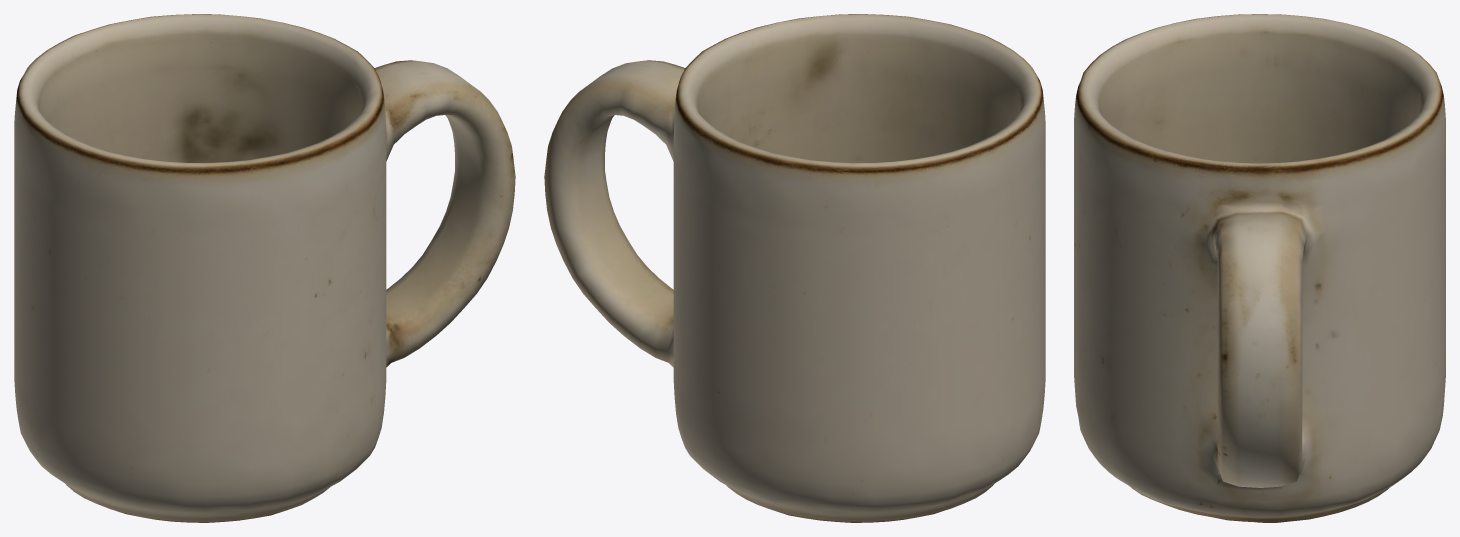
File: source.glb
3 renders of one model, left to right at view 1: azimuth 30°, elevation 25°; view 2: azimuth 150°, elevation 25°; view 3: azimuth 270°, elevation 25°, orthographic.
Visible parts, largest first — view 1: Speckled Ivory Stoneware Mug; view 2: Speckled Ivory Stoneware Mug; view 3: Speckled Ivory Stoneware Mug.
Boxes of the visible parts, x1,y1,x2,y2 form: Speckled Ivory Stoneware Mug: [14, 14, 515, 522]; Speckled Ivory Stoneware Mug: [544, 14, 1045, 522]; Speckled Ivory Stoneware Mug: [1074, 14, 1445, 522].
Bounding box in the file's own units: 0.998 × 0.7754 × 0.6973.
1 material, 1 textured.
